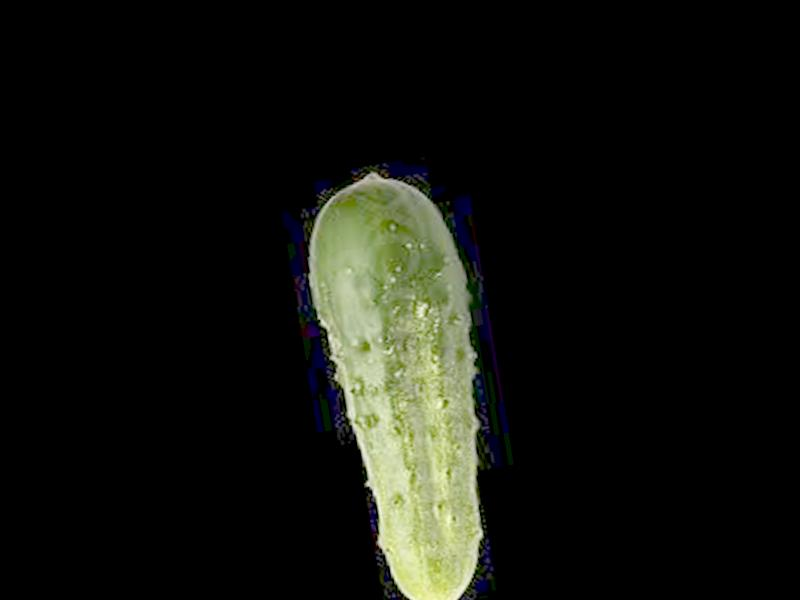Cucumber: (294, 160, 521, 600)
